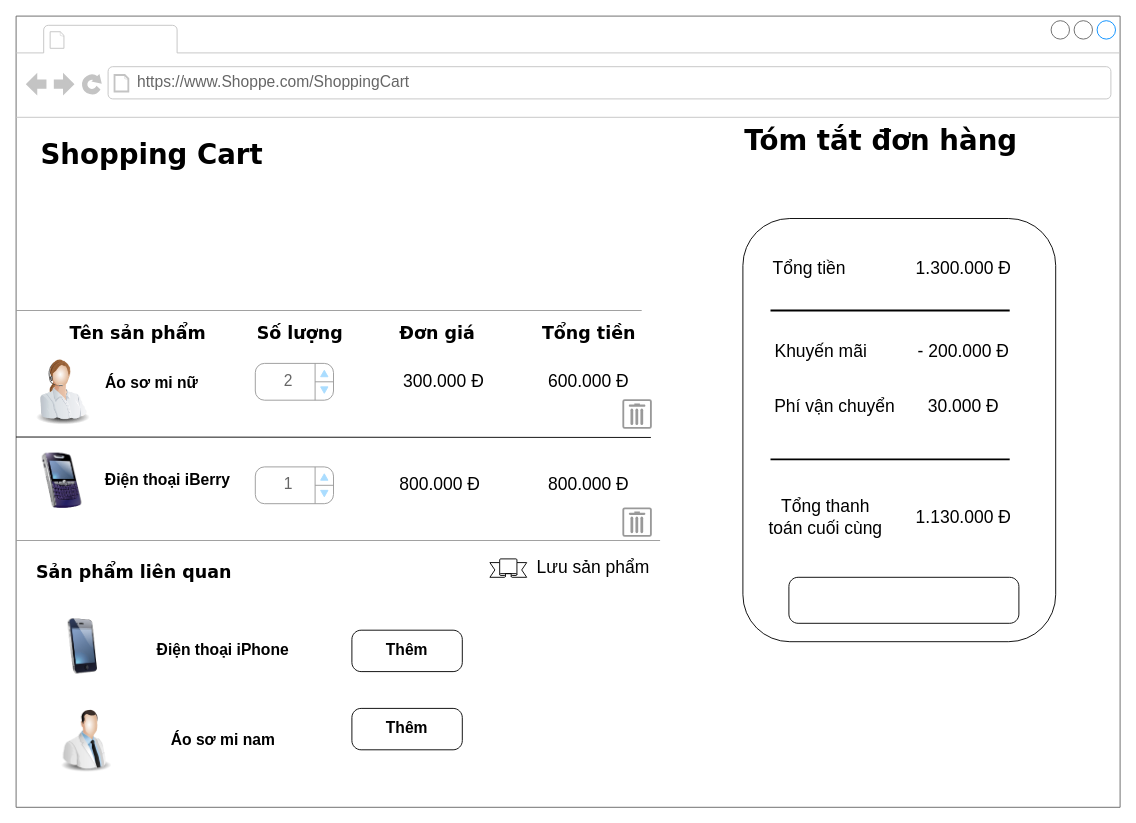
Some shapes in this 1136 by 823 pixel diagram are drawn without their labels. The shapes that lost their labels are listed below. From the top down, each one's centre as x and y in pixels, then its label:
(x=121, y=38): Page 1
(x=903, y=599): Thanh Toán
